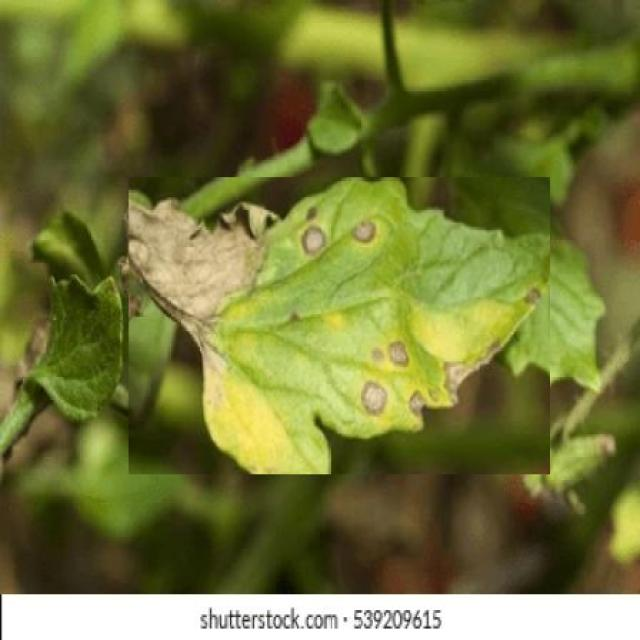Early Blight: (129, 177, 550, 474)
